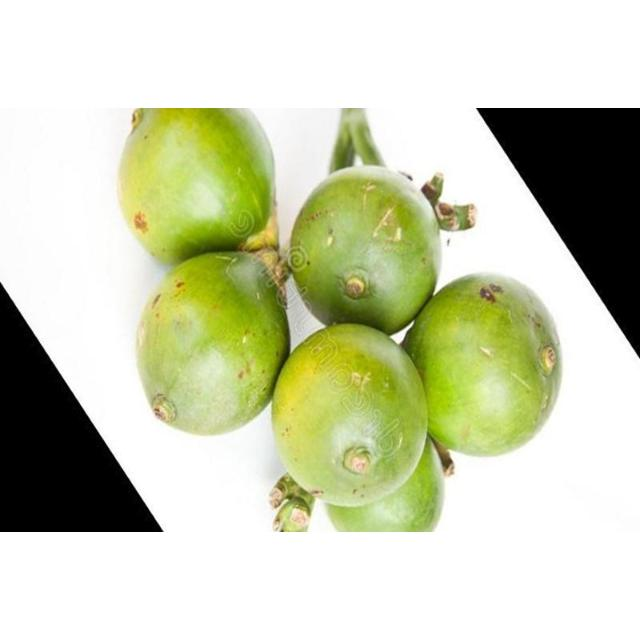good: (270, 325, 445, 532), (402, 274, 564, 459), (135, 252, 291, 438), (287, 166, 440, 343), (117, 108, 275, 266)
